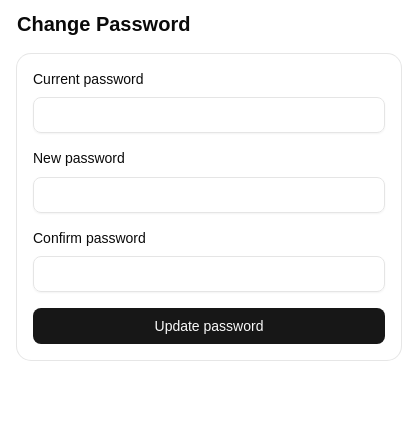
ChangePasswordPage › ⭐ stores the replacement token on success
In the password field labelled "Current password": (209, 115) 33,97 -> 385,133, type "current-password"
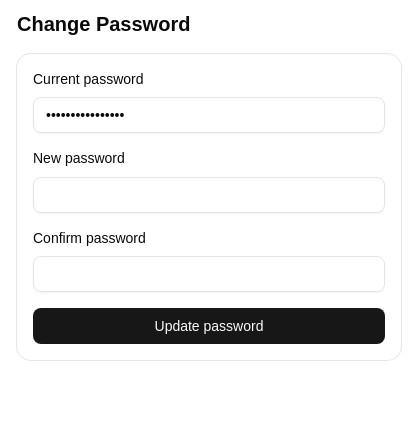
In the password field labelled "New password": (209, 194) 33,176 -> 385,212, type "a-brand-new-password"
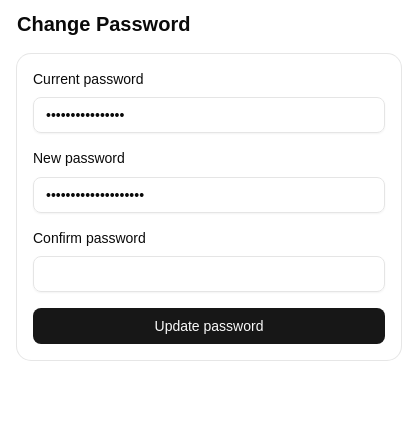
In the password field labelled "Confirm password": (209, 274) 33,256 -> 385,292, type "a-brand-new-password"
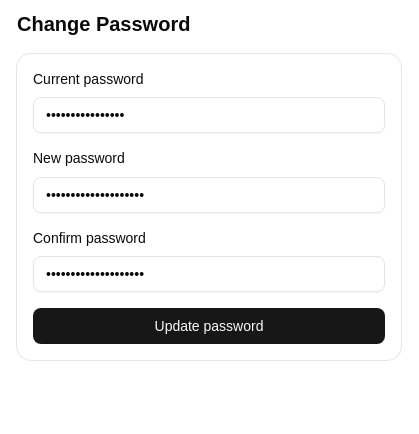
Click the button "Update password": (209, 326) 33,308 -> 385,344
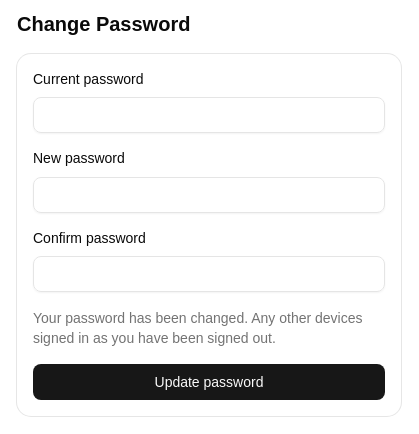
Expected: the text "Your password has been changed" is shown, 33,310 -> 362,346
